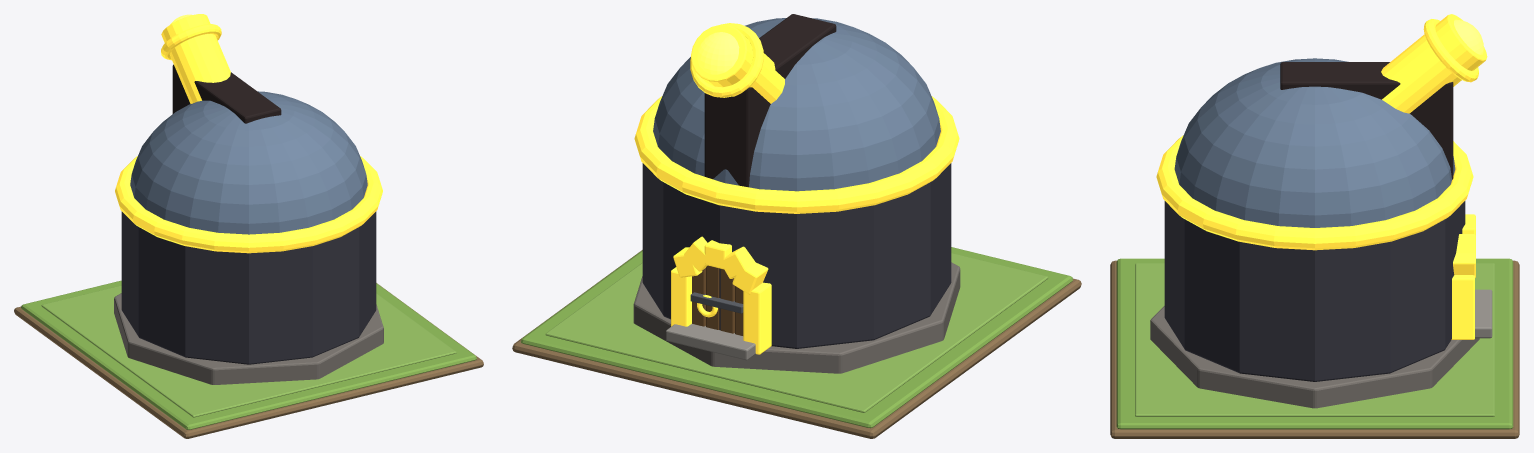
Rendered from star_laboratory_lv6.glb.
The picture shows the model from 3 angles, left to right: view 1: azimuth 30°, elevation 25°; view 2: azimuth 150°, elevation 25°; view 3: azimuth 270°, elevation 25°; orthographic projection. The views are drawn at different scales.
Visible parts, largest first — view 1: SL_Drum, SL_ObservatoryDome, Base_Inner, Base_Grass, SL_Plinth, SL_DomeTrack, Base_Dirt, TelescopeTubeMain, SL_DomeSlitArch, TelescopeCollar; view 2: SL_Drum, SL_ObservatoryDome, Base_Inner, Base_Grass, SL_DomeTrack, SL_Plinth, SL_DomeSlitArch, Base_Dirt, TelescopeTubeMain, DoorStep, DoorPillar_-1, TelescopeCollar (+9 smaller); view 3: SL_Drum, SL_ObservatoryDome, Base_Inner, Base_Grass, SL_DomeTrack, SL_Plinth, Base_Dirt, SL_DomeSlitArch, TelescopeTubeMain, DoorPillar_1, TelescopeCollar, DoorStep (+2 smaller).
Boxes of the visible parts, <box> form: SL_Drum: <box>121,211,376,364</box>; SL_ObservatoryDome: <box>130,91,367,234</box>; Base_Inner: <box>41,285,456,417</box>; Base_Grass: <box>21,280,476,429</box>; SL_Plinth: <box>114,293,383,384</box>; SL_DomeTrack: <box>115,156,382,253</box>; Base_Dirt: <box>14,283,483,438</box>; TelescopeTubeMain: <box>161,14,230,103</box>; SL_DomeSlitArch: <box>172,64,281,123</box>; TelescopeCollar: <box>161,24,221,60</box>; SL_Drum: <box>642,163,951,348</box>; SL_ObservatoryDome: <box>653,18,940,191</box>; Base_Inner: <box>545,253,1048,412</box>; Base_Grass: <box>521,247,1072,428</box>; SL_DomeTrack: <box>634,96,959,213</box>; SL_Plinth: <box>633,262,960,373</box>; SL_DomeSlitArch: <box>704,14,836,187</box>; Base_Dirt: <box>512,250,1081,438</box>; TelescopeTubeMain: <box>691,24,784,103</box>; DoorStep: <box>666,324,755,360</box>; DoorPillar_-1: <box>743,282,771,354</box>; TelescopeCollar: <box>690,23,763,97</box>; SL_Drum: <box>1164,201,1465,381</box>; SL_ObservatoryDome: <box>1174,58,1455,227</box>; Base_Inner: <box>1135,263,1494,416</box>; Base_Grass: <box>1116,258,1513,429</box>; SL_DomeTrack: <box>1156,135,1473,250</box>; SL_Plinth: <box>1150,306,1479,408</box>; Base_Dirt: <box>1110,260,1519,438</box>; SL_DomeSlitArch: <box>1280,62,1453,179</box>; TelescopeTubeMain: <box>1381,14,1487,113</box>; DoorPillar_1: <box>1451,275,1474,339</box>; TelescopeCollar: <box>1423,19,1478,82</box>; DoorStep: <box>1475,289,1492,338</box>.
Bounding box in the file's own units: 2.76 × 2.51 × 2.76.
